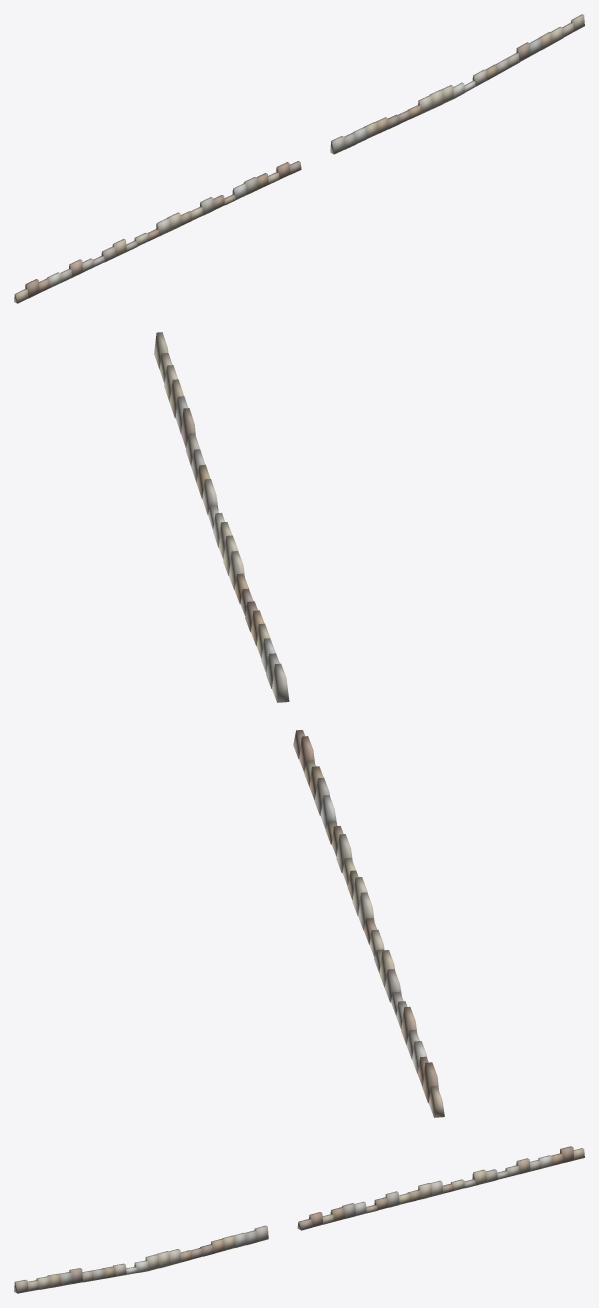
Rendered from farm_1_-2_collision.glb.
The picture shows the model from 3 angles, top to bottom: view 1: azimuth 90°, elevation 25°; view 2: azimuth 150°, elevation 25°; view 3: azimuth 270°, elevation 25°; orthographic projection. The views are drawn at different scales.
Visible parts, largest first — view 1: geometry_0; view 2: geometry_0; view 3: geometry_0.
Part boxes in pixels (x1,y1,x2,y2): geometry_0: (14, 14, 584, 303); geometry_0: (154, 332, 444, 1117); geometry_0: (14, 1146, 584, 1293).
Bounding box in the file's own units: 54.09 × 9.86 × 62.59.
